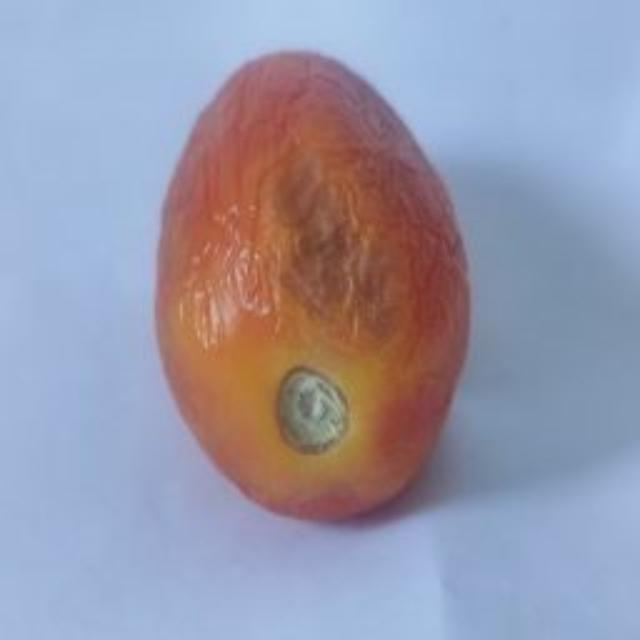defect: (150, 48, 472, 523)
